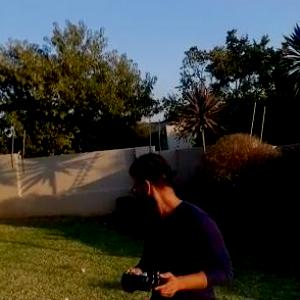follow: (119, 146, 238, 299)
